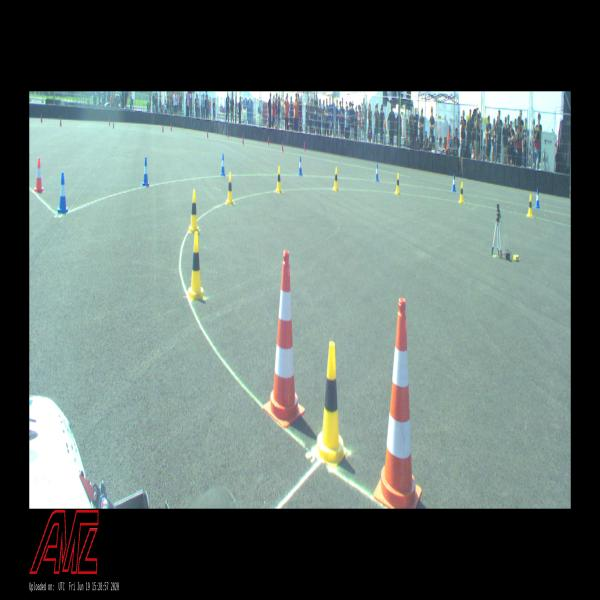blue_cone: (58, 172, 68, 213), (143, 158, 149, 186), (220, 154, 225, 176), (535, 188, 540, 208), (298, 157, 303, 176), (452, 173, 456, 192), (375, 163, 379, 181)
large_orange_cone: (373, 298, 422, 509), (263, 250, 305, 428)
orange_cone: (34, 158, 44, 192)
unknown_cone: (282, 141, 284, 152), (304, 141, 306, 152), (60, 116, 62, 127), (267, 135, 269, 145), (170, 122, 172, 132), (227, 129, 229, 138), (162, 124, 164, 133), (242, 136, 244, 144), (113, 120, 115, 128), (207, 129, 208, 138), (109, 118, 110, 127), (41, 114, 42, 123)
yellow_cone: (315, 341, 347, 467), (188, 232, 205, 300), (188, 189, 200, 233), (226, 172, 234, 205), (276, 166, 282, 193), (527, 194, 532, 217), (395, 173, 400, 194), (459, 182, 464, 203), (334, 167, 338, 190)
